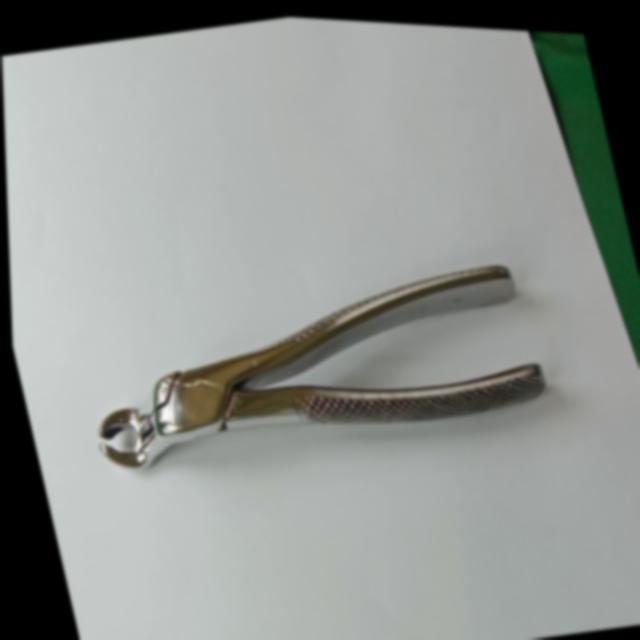BayonetForcep: (55, 207, 563, 520)
